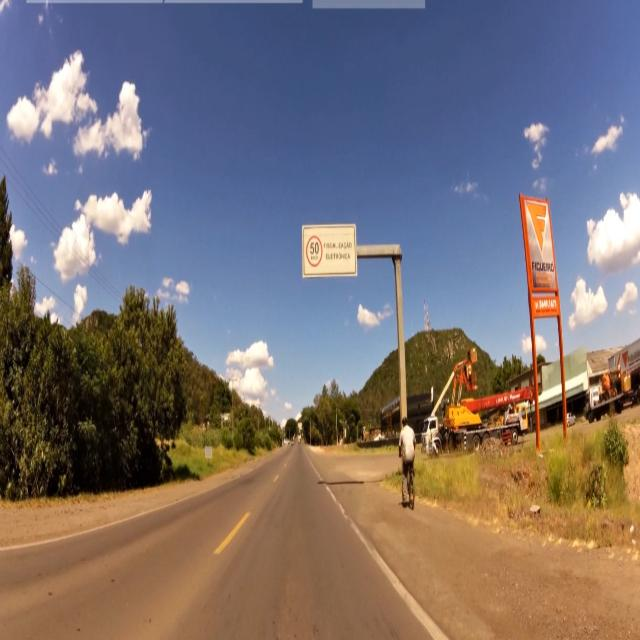R-19: (307, 235, 322, 268)
